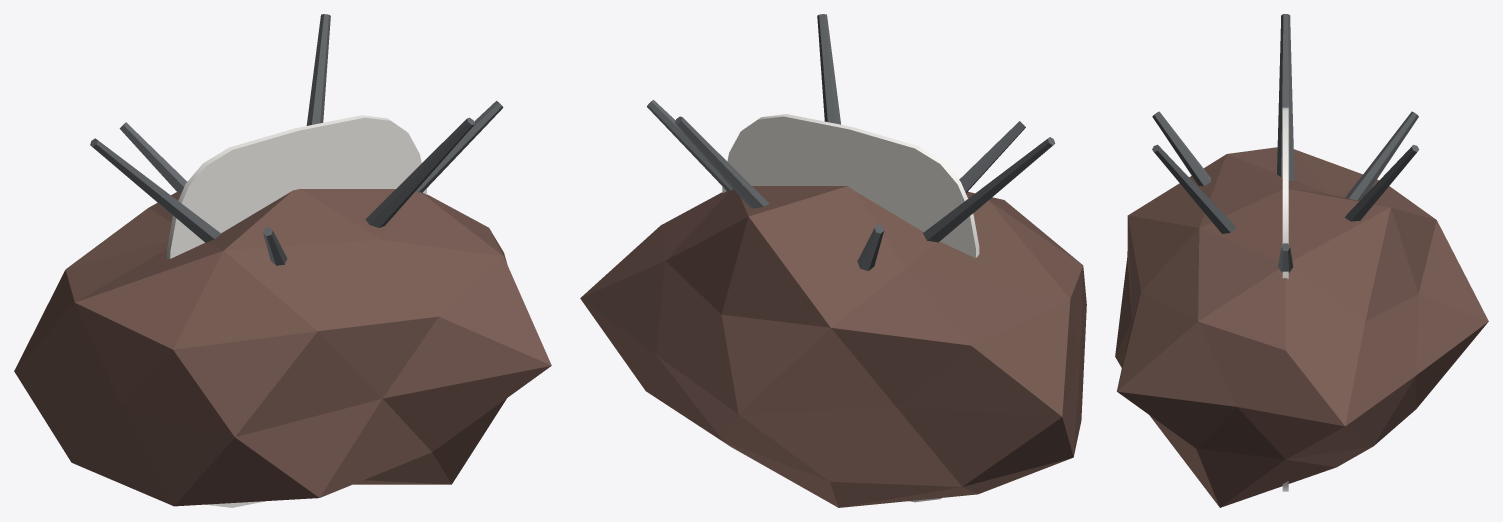
The model's file is finds.glb.
3 renders of one model, left to right at view 1: azimuth 30°, elevation 25°; view 2: azimuth 150°, elevation 25°; view 3: azimuth 270°, elevation 25°, orthographic. The views are drawn at different scales.
Parts seen in each view (by area): view 1: lava_stone, race_bib, black_coral; view 2: lava_stone, race_bib, black_coral; view 3: lava_stone, black_coral, race_bib.
Boxes of the visible parts, x1=… form: lava_stone: x1=14, y1=189, x2=551, y2=506; race_bib: x1=166, y1=115, x2=426, y2=507; black_coral: x1=90, y1=14, x2=503, y2=265; lava_stone: x1=580, y1=186, x2=1086, y2=507; race_bib: x1=722, y1=114, x2=979, y2=502; black_coral: x1=647, y1=14, x2=1055, y2=270; lava_stone: x1=1115, y1=147, x2=1488, y2=507; black_coral: x1=1152, y1=14, x2=1419, y2=272; race_bib: x1=1282, y1=107, x2=1288, y2=491.
Bounding box in the file's own units: 0.1686 × 0.1329 × 0.1247.
